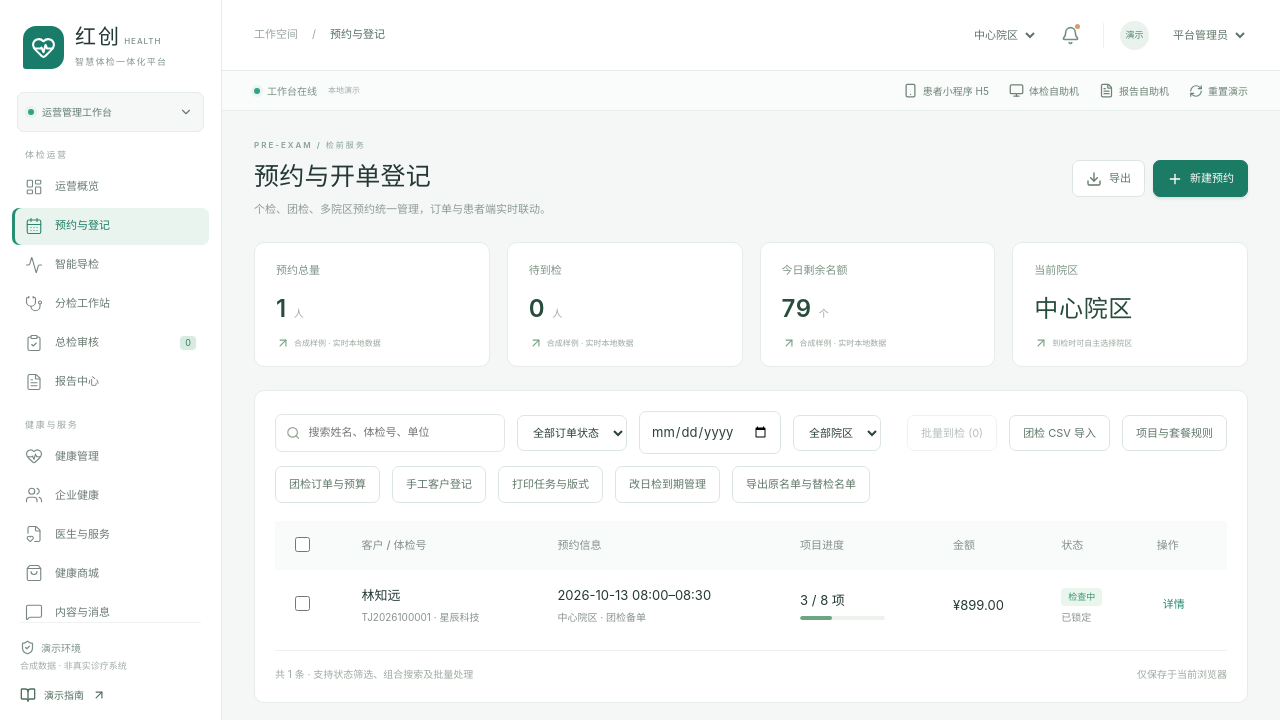
Test: independent QA: audit of exposed mutation guards › locked appointment details disable item additions and cancellation
The width and height of the screenshot is (1280, 720).
Click the button "详情" at (1174, 605), box [1157,593,1191,617]
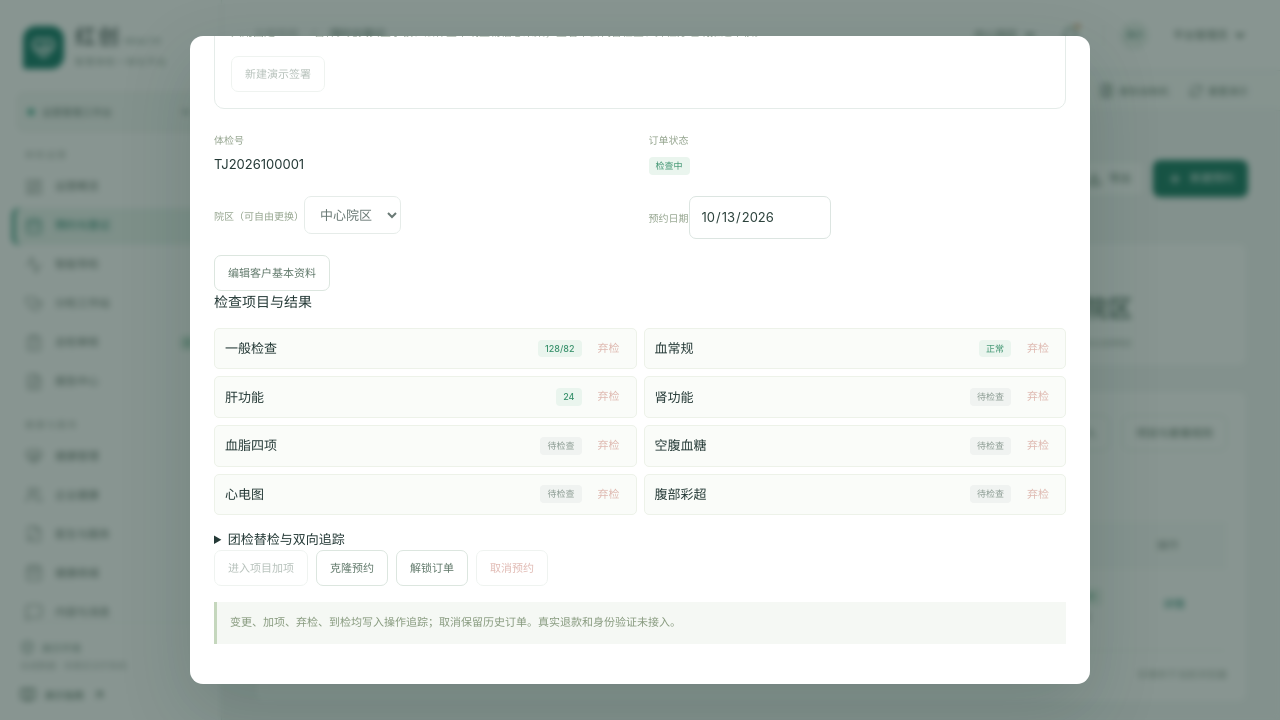
Result: the button "进入项目加项" is disabled at [214,550,308,586]
Result: the button "取消预约" is disabled at [476,550,548,586]
